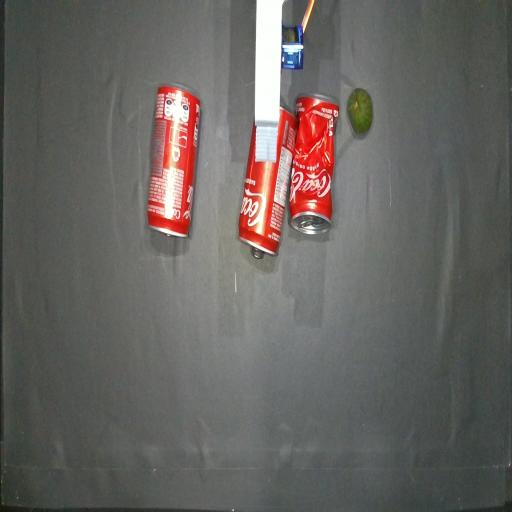higo: (347, 88, 373, 133)
lata: (238, 106, 297, 257), (147, 85, 200, 237)
lata_defectuoso: (289, 93, 339, 234)
